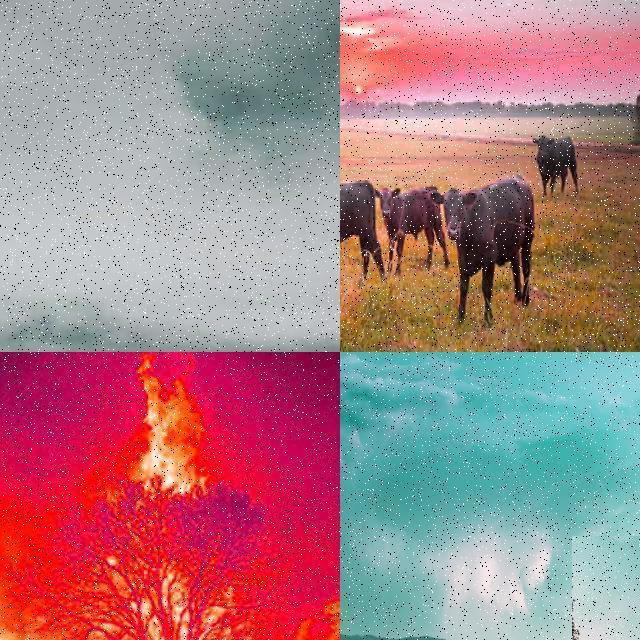tree: (8, 470, 284, 640), (572, 536, 640, 640)
